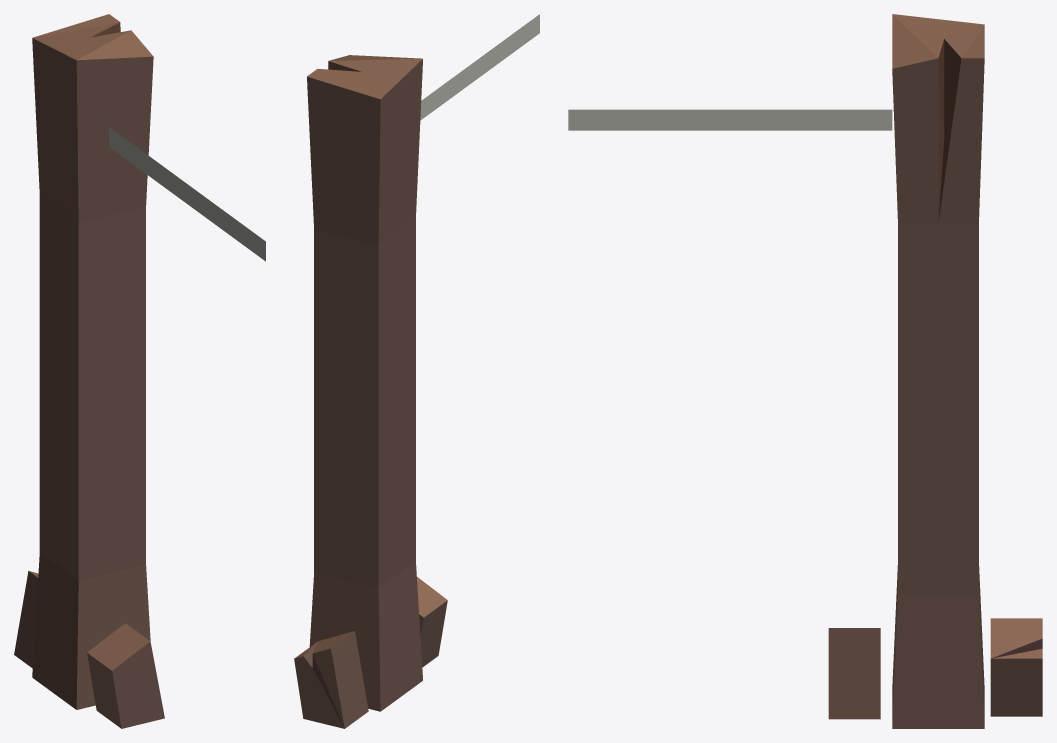
The picture shows the model from 3 angles, left to right: view 1: azimuth 30°, elevation 25°; view 2: azimuth 150°, elevation 25°; view 3: azimuth 270°, elevation 25°; orthographic projection. The views are drawn at different scales.
Bounding box in the file's own units: 16 × 129 × 82.
Materials: 1 (1 with a texture image).
